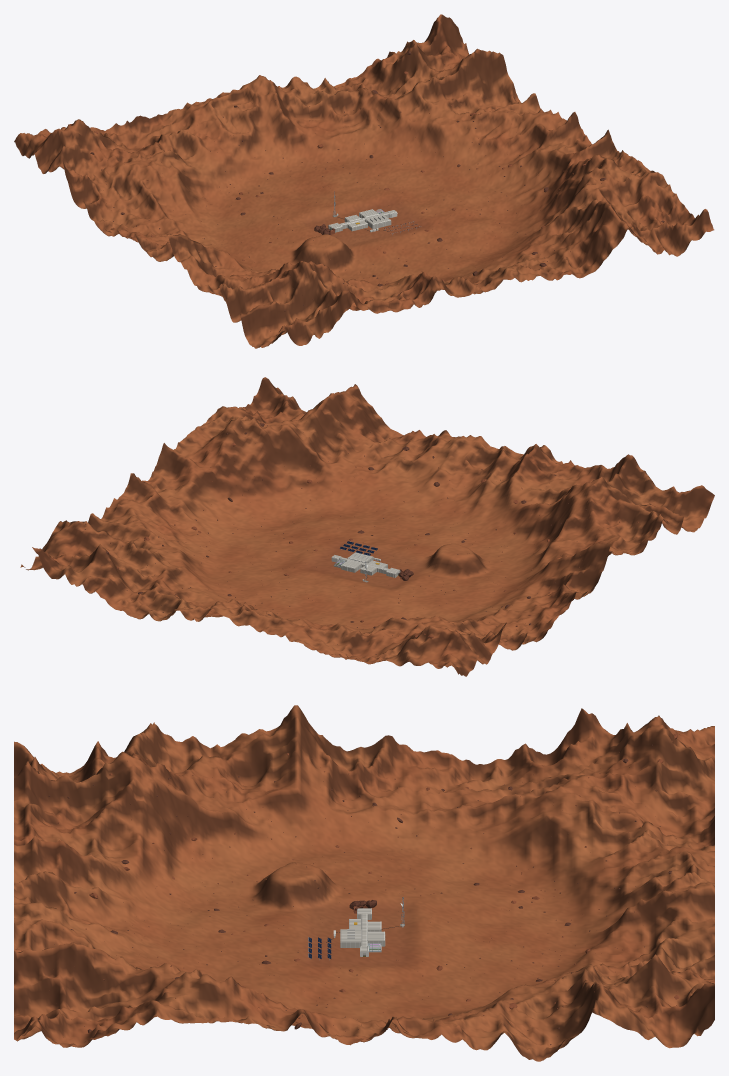
Rendered from ares_station_2080_intact.glb.
The picture shows the model from 3 angles, top to bottom: view 1: azimuth 30°, elevation 25°; view 2: azimuth 150°, elevation 25°; view 3: azimuth 270°, elevation 25°; orthographic projection. The views are drawn at different scales.
Visible parts, largest first — view 1: Terrain-col; view 2: Terrain-col; view 3: Terrain-col.
Part boxes in pixels (x1,y1,x2,y2): Terrain-col: [14, 14, 714, 348]; Terrain-col: [20, 377, 714, 676]; Terrain-col: [14, 705, 714, 1061].
Size of the model in its own units: 400 by 60.55 by 400.
